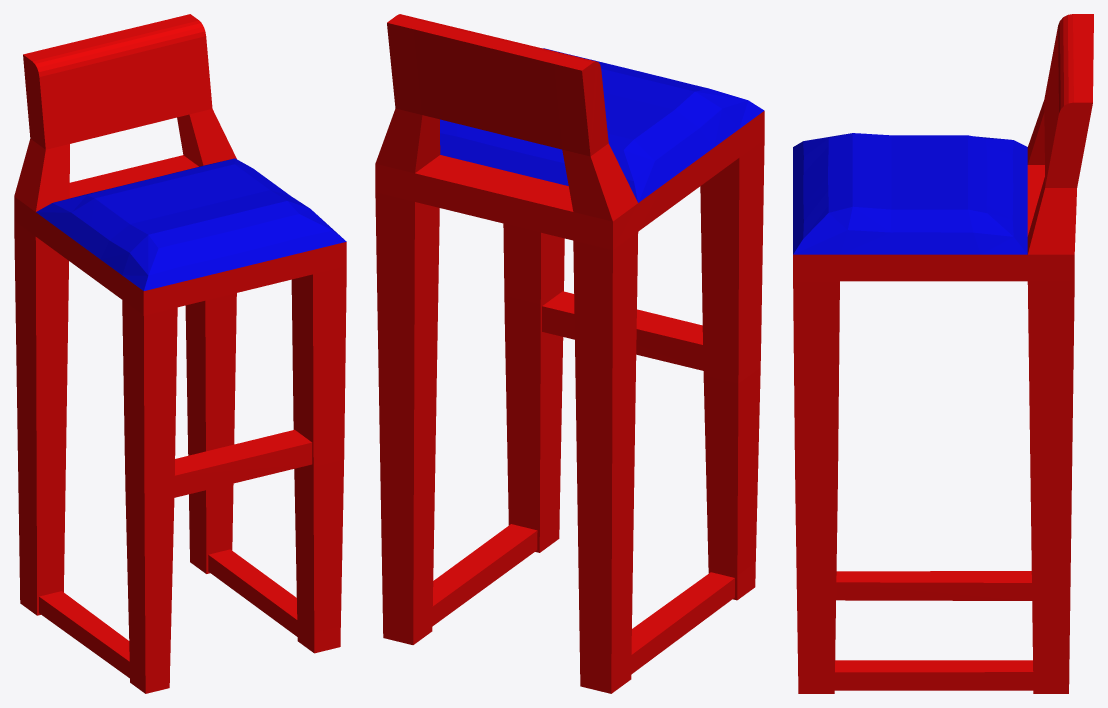
The model's file is Stool.fbx.
3 views of the same model, side by side, from view 1: azimuth 30°, elevation 25°; view 2: azimuth 150°, elevation 25°; view 3: azimuth 270°, elevation 25° (orthographic). The views are drawn at different scales.
Visible parts, largest first — view 1: pCube1; view 2: pCube1; view 3: pCube1.
Part boxes in pixels (bbox=[...]): pCube1: bbox=[14, 14, 346, 693]; pCube1: bbox=[375, 14, 764, 693]; pCube1: bbox=[793, 14, 1093, 693].
Bounding box in the file's own units: 40.5 × 102 × 47.85.
